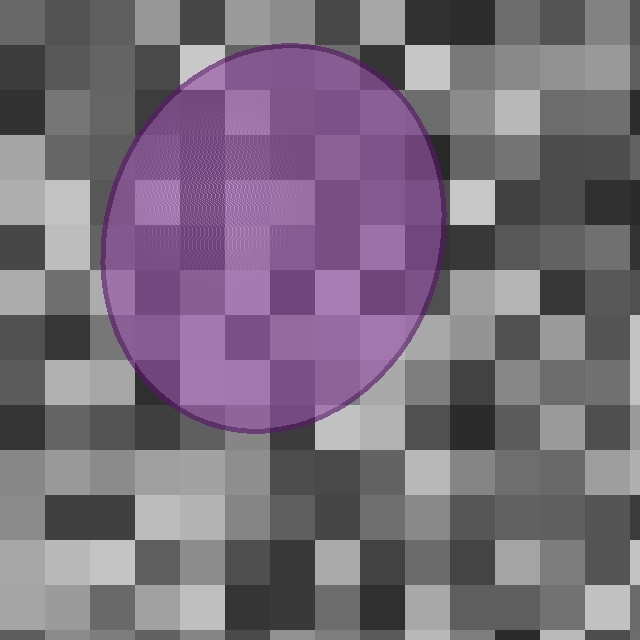lens: (104, 45, 442, 431)
